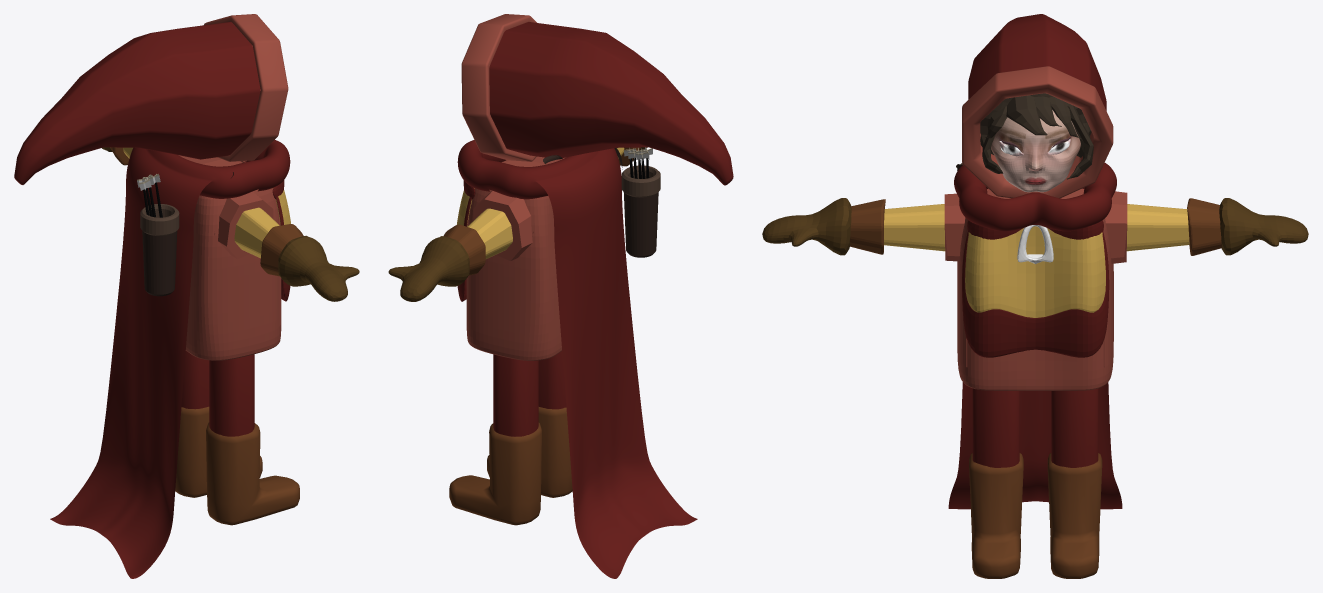
The model's file is KCharacter.fbx.
3 views of the same model, side by side, from view 1: azimuth 30°, elevation 25°; view 2: azimuth 150°, elevation 25°; view 3: azimuth 270°, elevation 25° (orthographic). The views are drawn at different scales.
Parts seen in each view (by area): view 1: kuyruk, sapka, bacak/ayak, kiyafet, kol/el, okluk, kol/el.001, govde; view 2: kuyruk, sapka, bacak/ayak, kiyafet, kol/el, okluk, kol/el.001; view 3: kiyafet, bacak/ayak, kol/el, sapka, kuyruk, yuz, sac, kol/el.001.
Part boxes in pixels (box(x1,y1,x2,y2)): kuyruk: box(50, 140, 290, 578); sapka: box(14, 14, 288, 184); bacak/ayak: box(175, 351, 299, 525); kiyafet: box(185, 161, 290, 360); kol/el: box(102, 147, 359, 301); okluk: box(137, 174, 179, 296); kol/el.001: box(218, 191, 273, 258); govde: box(178, 155, 280, 325); kuyruk: box(457, 140, 697, 578); sapka: box(461, 14, 733, 185); bacak/ayak: box(449, 351, 572, 525); kiyafet: box(457, 160, 561, 360); kol/el: box(388, 147, 647, 301); okluk: box(621, 147, 660, 257); kol/el.001: box(473, 190, 532, 260); kiyafet: box(957, 188, 1113, 390); bacak/ayak: box(969, 388, 1102, 578); kol/el: box(762, 198, 1308, 255); sapka: box(962, 14, 1113, 198); kuyruk: box(948, 163, 1122, 509); yuz: box(991, 110, 1080, 192); sac: box(980, 93, 1093, 179); kol/el.001: box(944, 191, 1127, 263).
Bounding box in the file's own units: 443 × 802 × 764.
